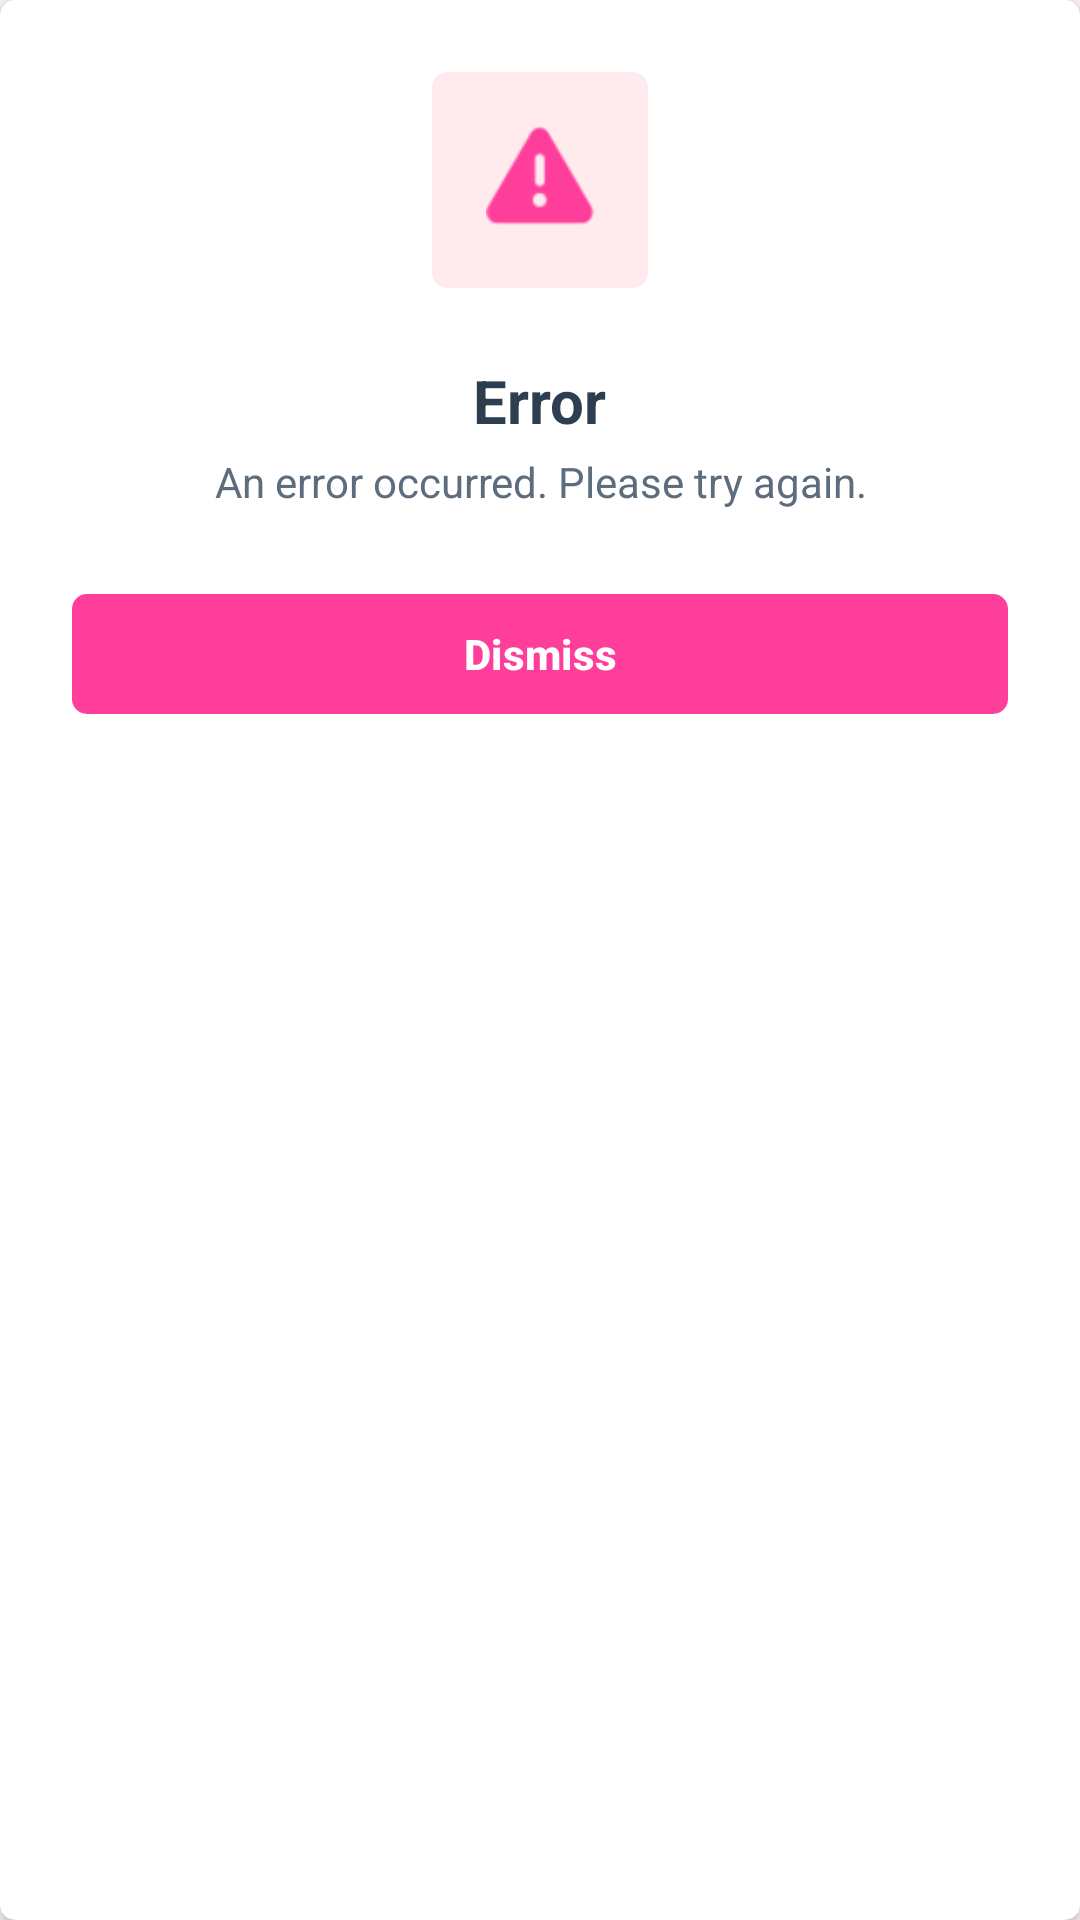

Where to tap for icons on this 1080px×1920px app screen, as (x,y):
alert: (540,175)
